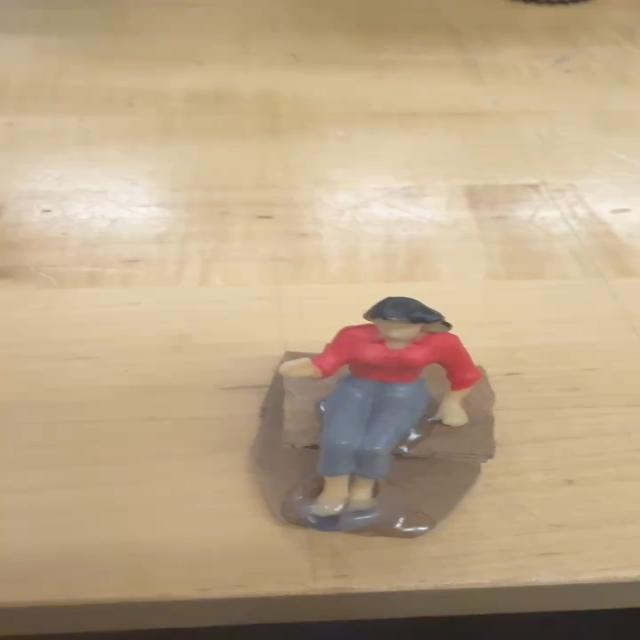Authorized: (240, 283, 485, 534)
